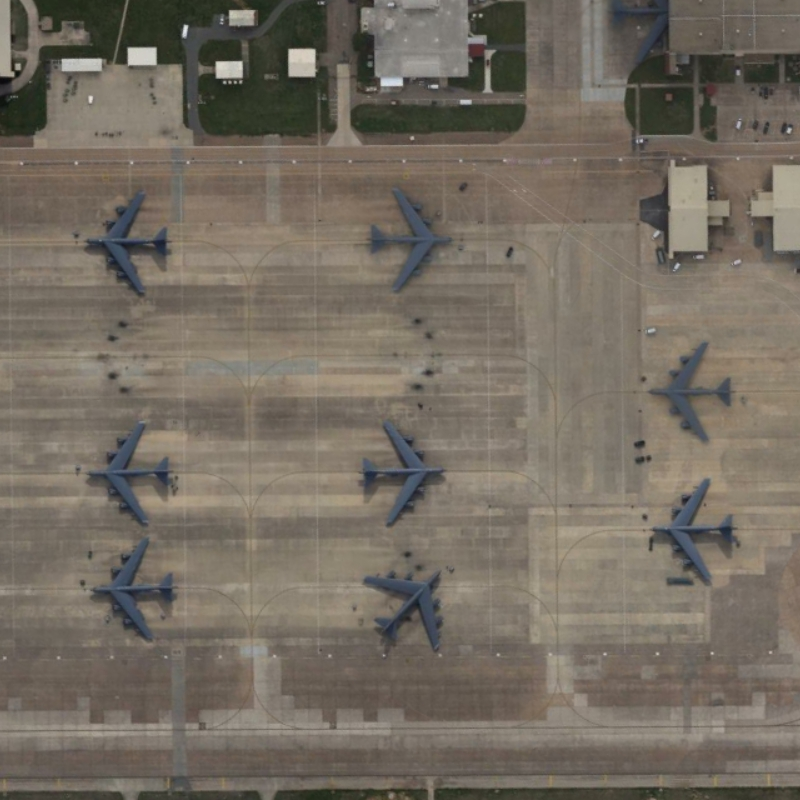A8: (356, 415, 451, 535), (79, 416, 178, 531), (641, 473, 740, 588), (640, 332, 738, 448), (82, 186, 177, 304), (83, 534, 180, 647), (362, 184, 456, 297), (358, 562, 453, 658)
